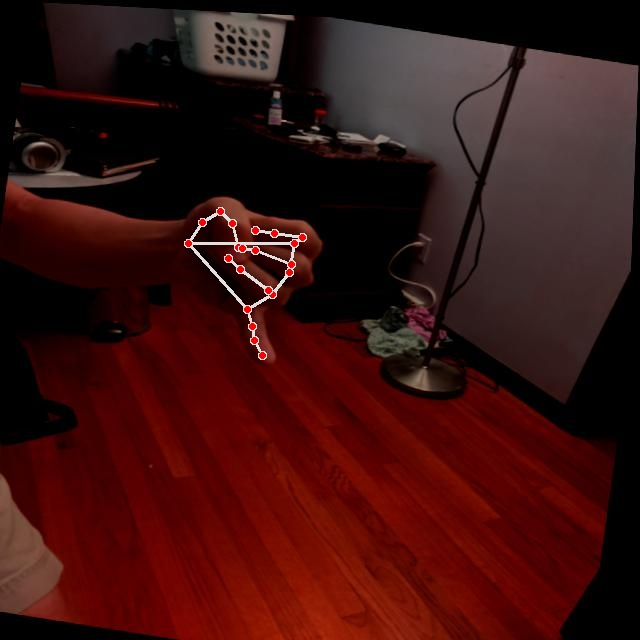J: (159, 178, 340, 377)
